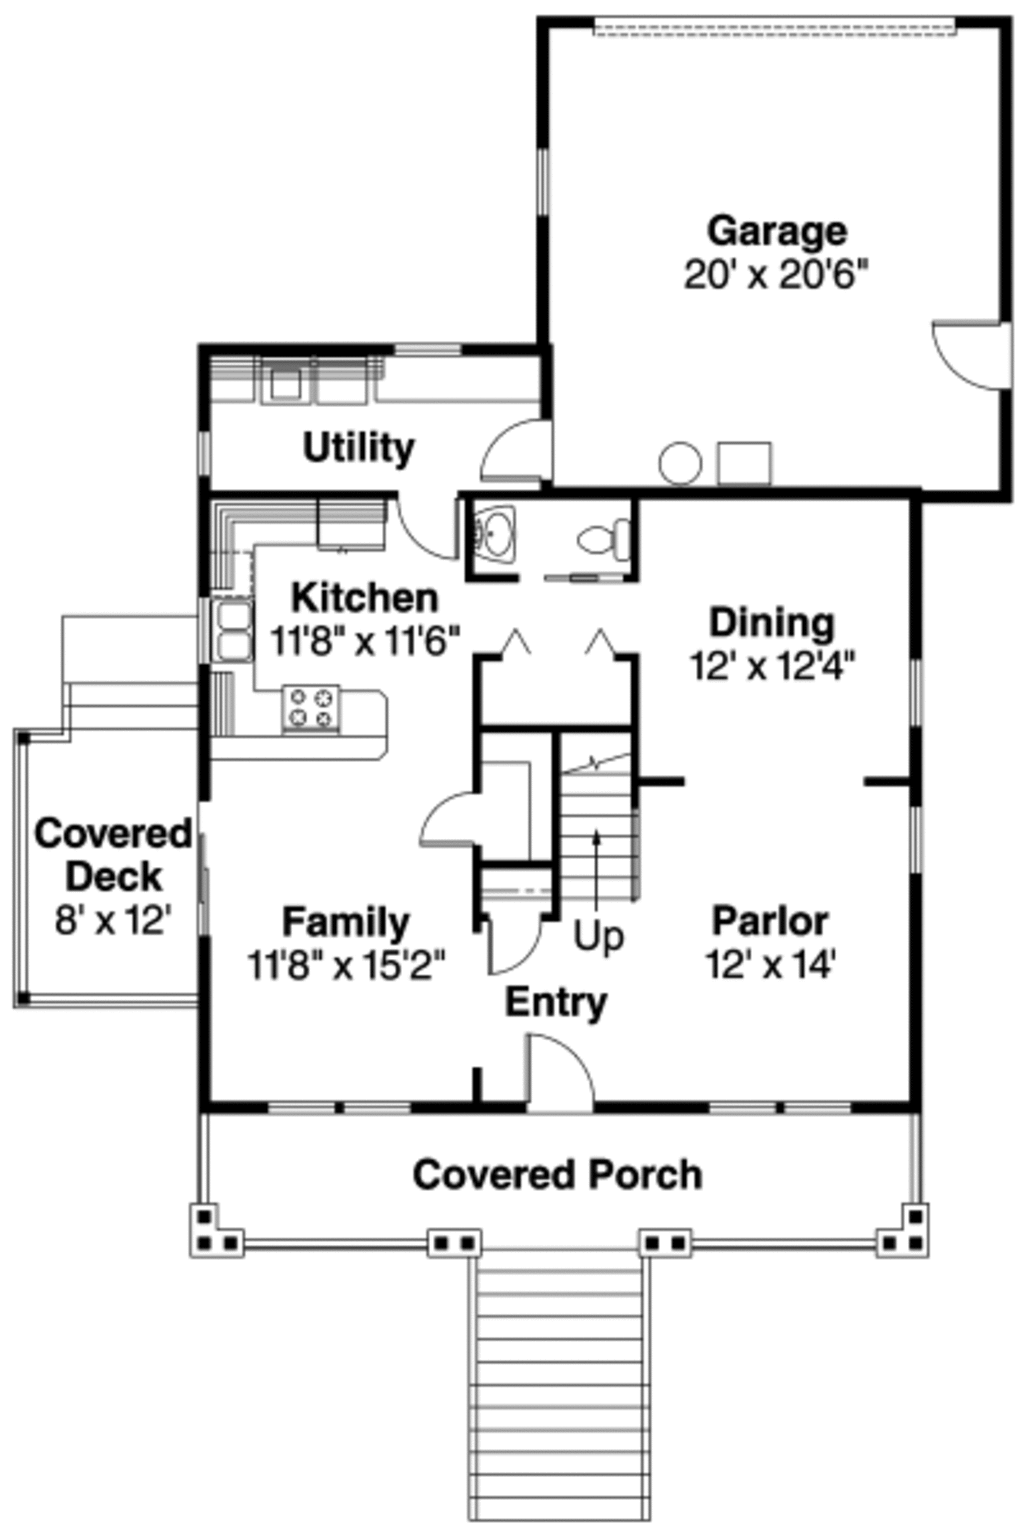door: (397, 768, 504, 852), (513, 1026, 603, 1115), (471, 901, 557, 989), (467, 410, 565, 487), (929, 312, 1024, 388), (390, 487, 475, 568)
large_sink: (571, 502, 635, 570)
small_sink: (457, 498, 534, 570)
stairs: (455, 1226, 669, 1531), (557, 722, 664, 917)
twin_sink: (187, 581, 277, 677)
window: (520, 133, 571, 233), (271, 1094, 413, 1124), (694, 1096, 857, 1118), (894, 803, 934, 880), (904, 647, 934, 725), (394, 332, 462, 359)
